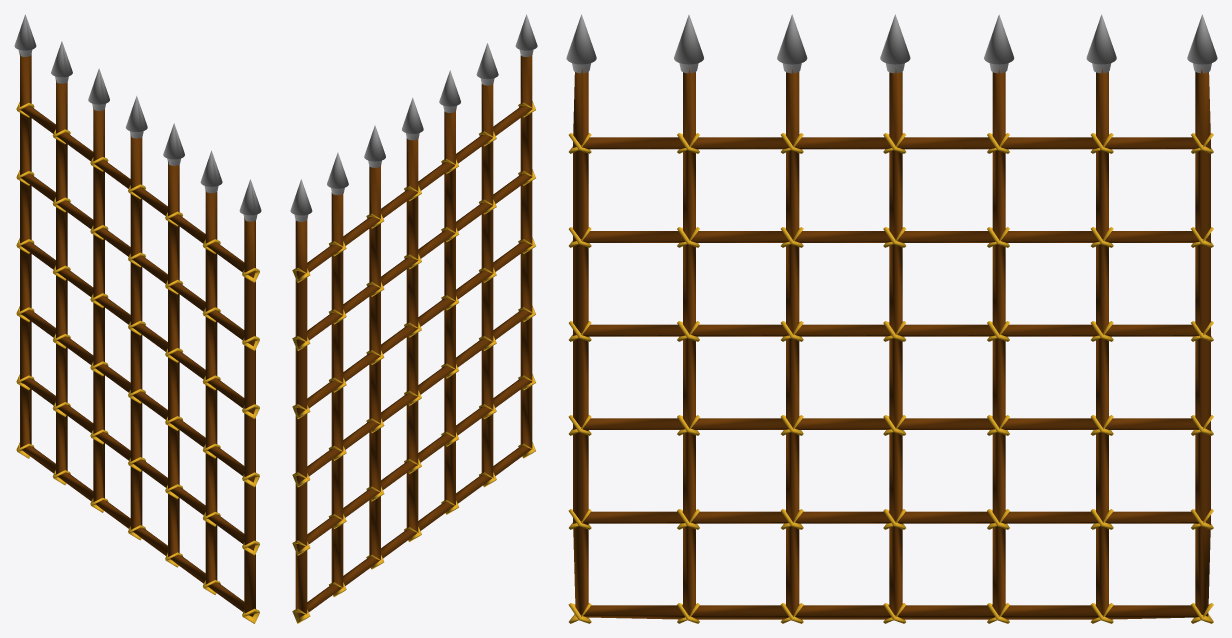
Rendered from wall bazz.fbx.
3 renders of one model, left to right at view 1: azimuth 30°, elevation 25°; view 2: azimuth 150°, elevation 25°; view 3: azimuth 270°, elevation 25°, orthographic. The views are drawn at different scales.
Visible parts, largest first — view 1: Stick, Knob, Arrow; view 2: Stick, Knob, Arrow; view 3: Stick, Knob, Arrow.
Boxes of the visible parts, bbox=[...] form: Stick: bbox=[20, 53, 255, 616]; Knob: bbox=[16, 102, 259, 623]; Arrow: bbox=[14, 14, 261, 221]; Stick: bbox=[295, 52, 532, 617]; Knob: bbox=[292, 101, 535, 623]; Arrow: bbox=[290, 14, 537, 221]; Stick: bbox=[573, 69, 1210, 619]; Knob: bbox=[568, 133, 1213, 623]; Arrow: bbox=[566, 14, 1217, 73].
Size of the model in its own units: 9.8 by 217 by 210.
